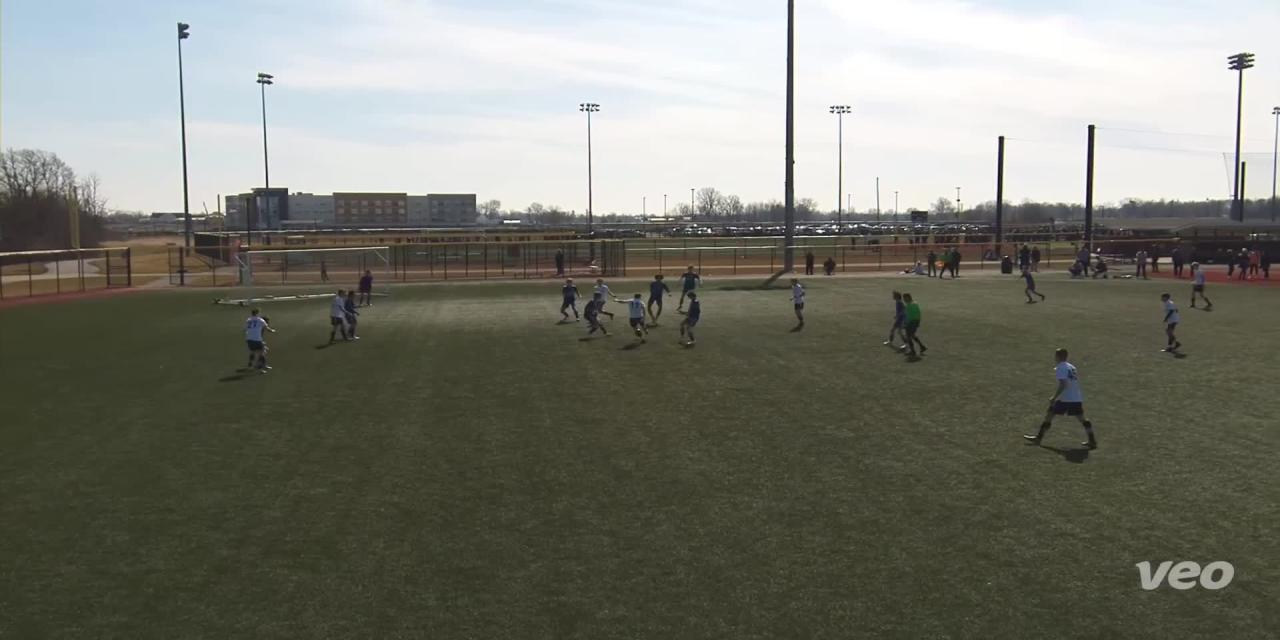goal: (210, 242, 412, 315)
sports ball: (632, 325, 652, 341)
